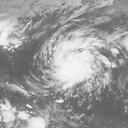cyclone: (32, 23, 117, 99)
